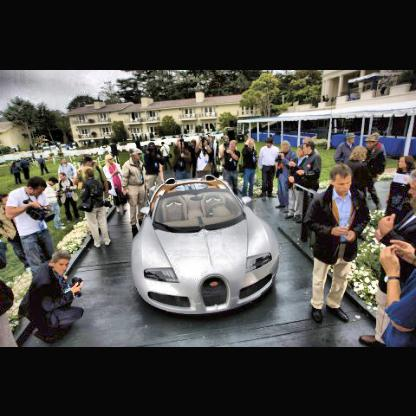Bugatti Veyron 16-4 Convertible 2009: (135, 179, 282, 318)
